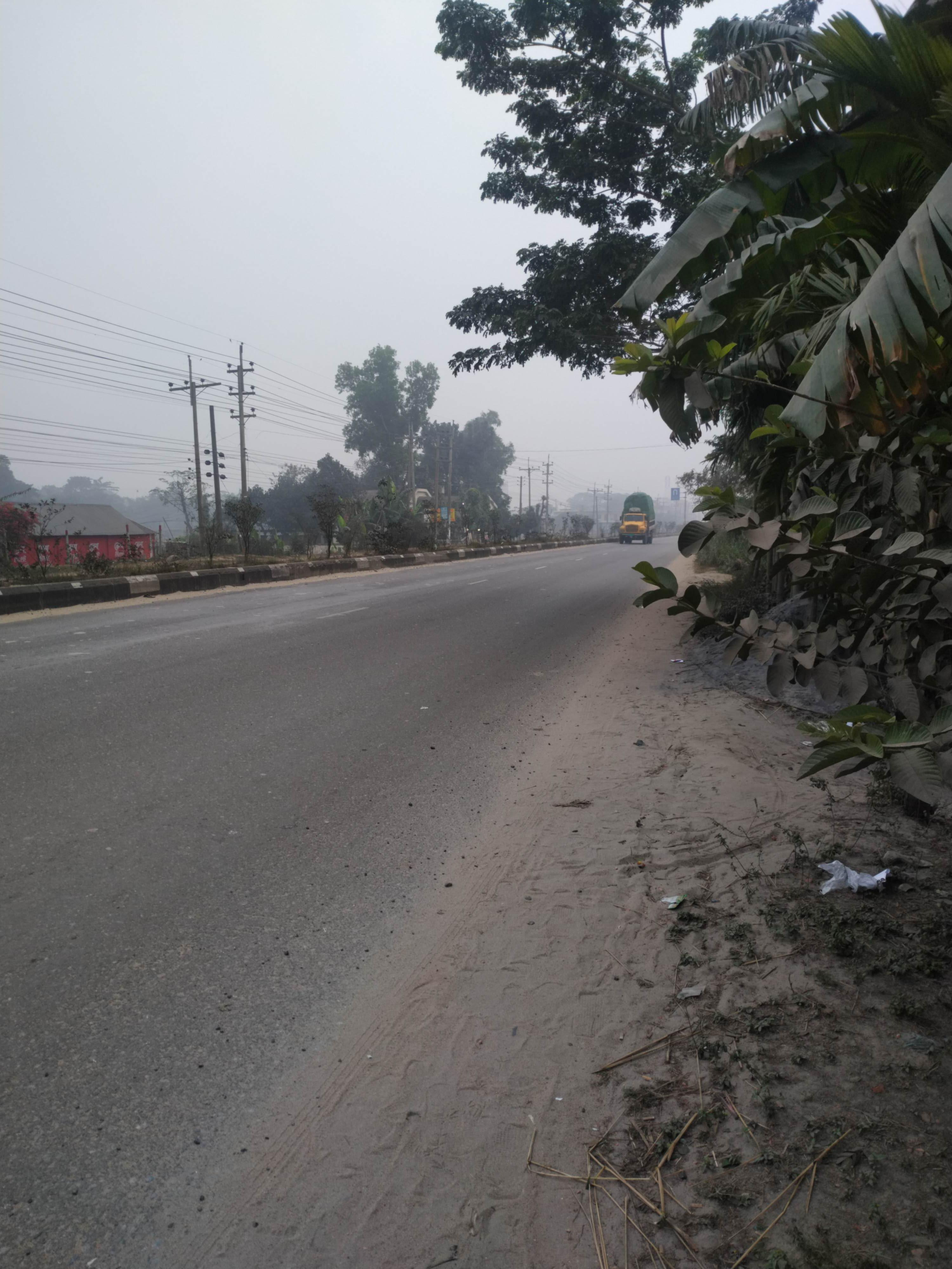Truck: (605, 480, 673, 560)
